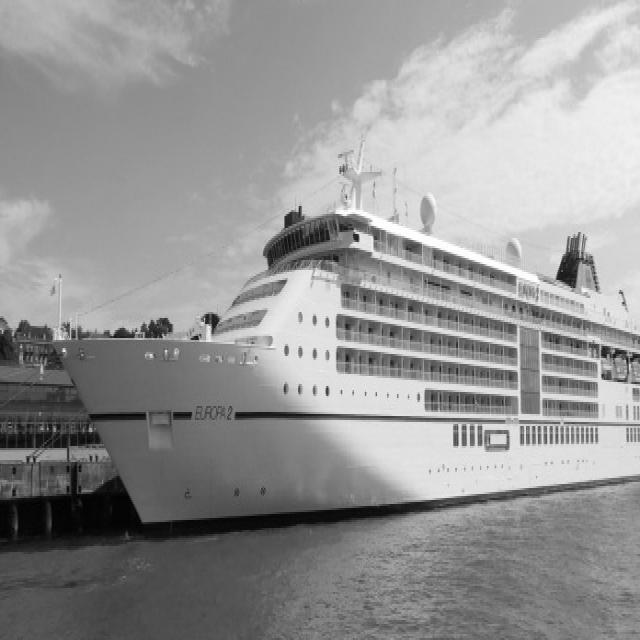cruises: (51, 131, 640, 545)
